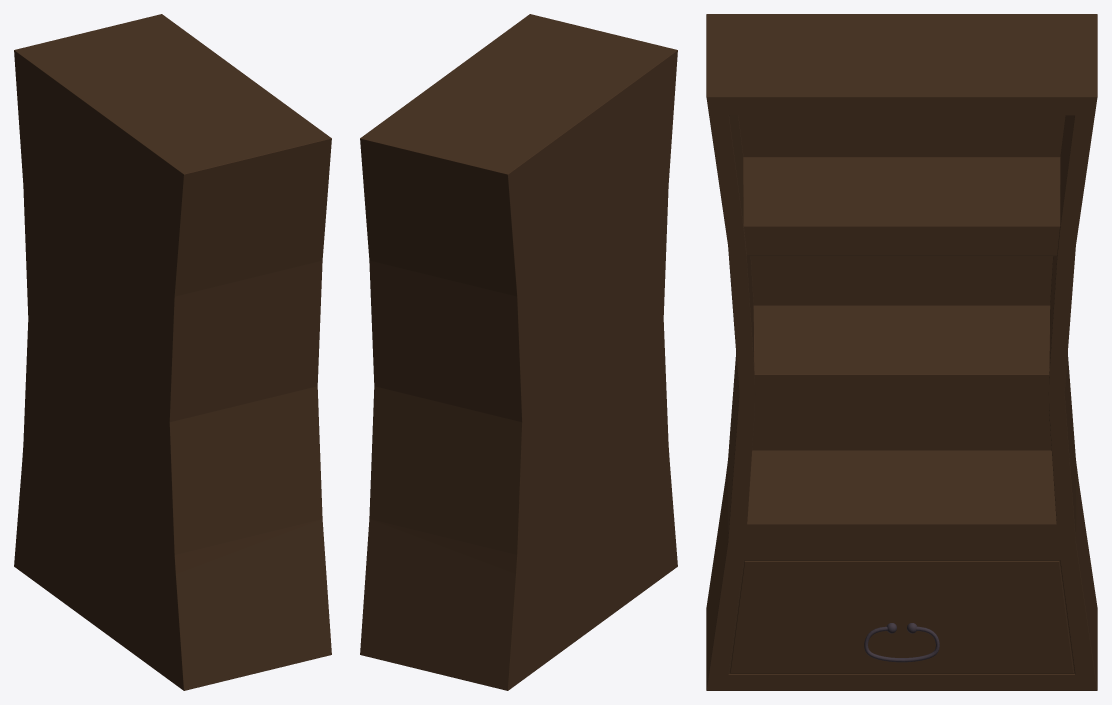
The model's file is ShelfV2.fbx.
3 views of the same model, side by side, from view 1: azimuth 30°, elevation 25°; view 2: azimuth 150°, elevation 25°; view 3: azimuth 270°, elevation 25° (orthographic). The views are drawn at different scales.
Visible parts, largest first — view 1: Cube.007; view 2: Cube.007; view 3: Cube.007.
Boxes of the visible parts, bbox=[...] form: Cube.007: bbox=[14, 14, 331, 690]; Cube.007: bbox=[360, 14, 677, 690]; Cube.007: bbox=[706, 14, 1097, 690].
Size of the model in its own units: 78.21 by 250 by 149.
